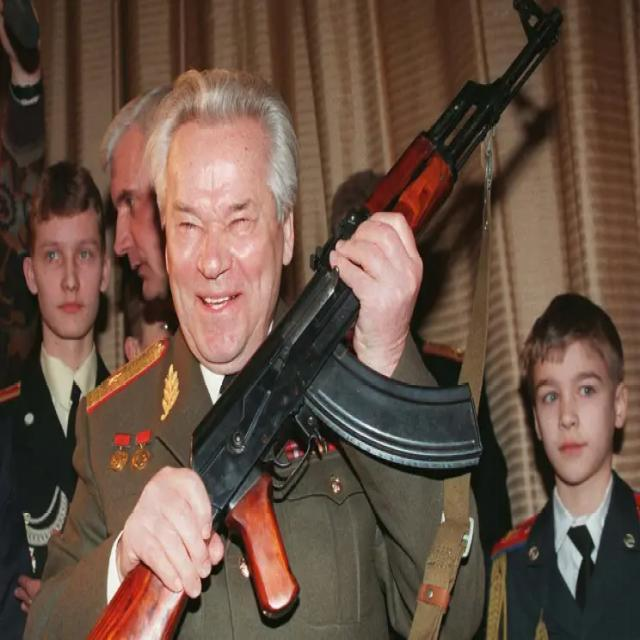weapon: (85, 0, 564, 640)
